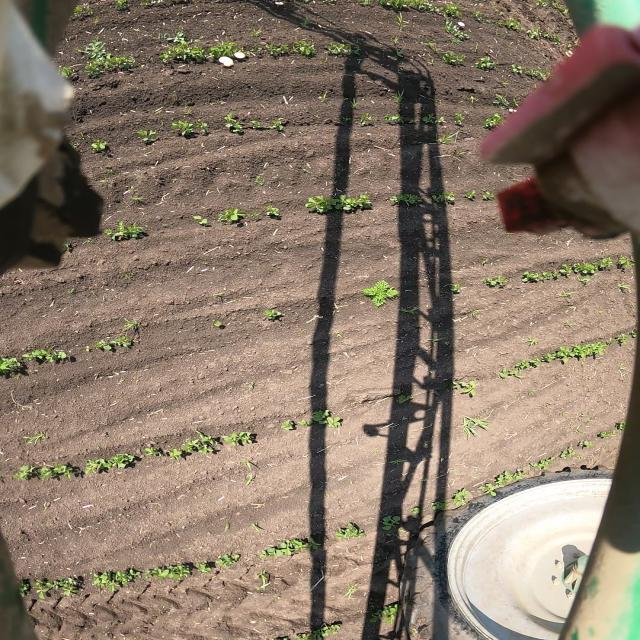plants: (249, 538, 328, 562), (85, 566, 147, 594), (358, 278, 404, 310), (97, 222, 159, 244), (152, 42, 208, 66), (288, 619, 345, 640), (87, 56, 142, 77), (147, 562, 200, 582), (328, 522, 376, 544), (300, 409, 349, 430), (459, 411, 492, 441), (216, 202, 254, 228), (301, 193, 348, 214), (245, 41, 292, 61), (24, 347, 76, 365), (211, 38, 247, 64), (256, 304, 295, 327), (439, 17, 472, 44), (443, 376, 480, 400), (556, 260, 600, 280), (237, 459, 265, 490), (339, 196, 381, 216), (488, 468, 532, 487), (222, 425, 258, 448), (324, 41, 369, 59), (600, 252, 640, 272), (363, 605, 403, 625), (52, 573, 85, 597), (386, 190, 430, 208), (463, 480, 509, 497), (39, 460, 77, 480), (519, 265, 557, 285), (435, 487, 477, 505), (372, 513, 411, 532), (378, 0, 435, 13), (18, 429, 61, 446), (217, 112, 250, 134), (245, 568, 276, 591), (78, 454, 110, 476), (166, 120, 198, 142), (608, 327, 640, 349), (153, 28, 196, 44), (183, 432, 214, 454), (524, 458, 569, 473), (0, 352, 24, 380), (247, 118, 291, 133), (461, 186, 499, 203), (526, 27, 564, 44), (481, 274, 516, 292), (577, 340, 612, 358), (213, 553, 248, 571), (131, 128, 165, 146), (291, 41, 325, 59), (482, 93, 522, 108), (28, 577, 54, 600), (338, 580, 367, 600), (548, 446, 584, 462), (109, 449, 137, 469), (416, 112, 456, 126), (83, 138, 115, 155), (548, 346, 582, 362), (78, 38, 109, 55), (10, 462, 35, 483), (442, 106, 468, 126), (514, 357, 546, 373), (85, 338, 115, 355), (298, 17, 328, 34), (436, 49, 470, 64), (586, 428, 622, 442), (438, 282, 470, 297), (443, 148, 473, 164), (479, 111, 505, 129), (261, 204, 291, 219), (59, 63, 86, 79), (166, 444, 187, 464), (381, 113, 413, 126), (529, 66, 555, 82), (516, 335, 545, 349), (607, 417, 634, 432), (437, 5, 468, 18), (112, 334, 137, 350), (460, 306, 485, 322), (207, 316, 229, 334), (424, 501, 457, 513), (69, 6, 97, 20), (141, 441, 164, 458), (535, 1, 570, 12), (193, 558, 217, 574), (475, 56, 500, 71), (248, 174, 274, 188), (240, 518, 270, 530), (188, 212, 210, 228), (242, 24, 267, 38), (491, 366, 517, 379), (352, 114, 374, 129), (404, 503, 426, 518), (389, 12, 412, 26), (434, 190, 455, 205), (118, 318, 144, 330), (199, 120, 216, 138), (504, 17, 525, 31), (384, 455, 408, 467), (569, 439, 597, 449), (120, 195, 151, 204), (180, 107, 205, 118), (316, 91, 336, 104), (424, 134, 452, 143), (17, 577, 30, 596), (112, 0, 129, 14), (617, 279, 634, 293), (555, 290, 578, 300), (393, 393, 415, 403), (394, 46, 411, 58), (348, 99, 366, 110), (278, 419, 296, 430), (566, 36, 584, 47), (392, 88, 405, 102), (510, 62, 526, 73), (139, 0, 169, 4), (387, 36, 403, 42), (358, 0, 371, 7), (425, 40, 433, 51)
